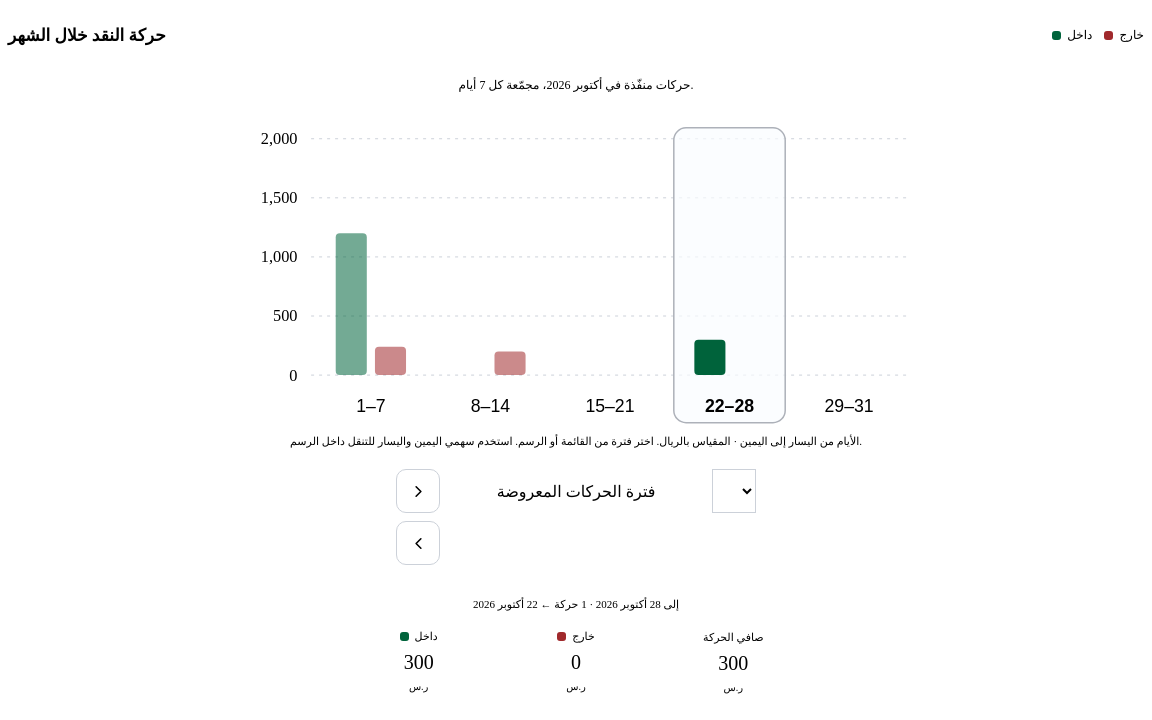
Test: interactive cash charts › updates exact period figures with native selection and keyboard bar navigation
The width and height of the screenshot is (1152, 720).
Select "من 1 إلى 7 أكتوبر 2026" in the dropdown labelled "فترة الحركات المعروضة" at coordinates (734, 491), box [712, 469, 756, 513]
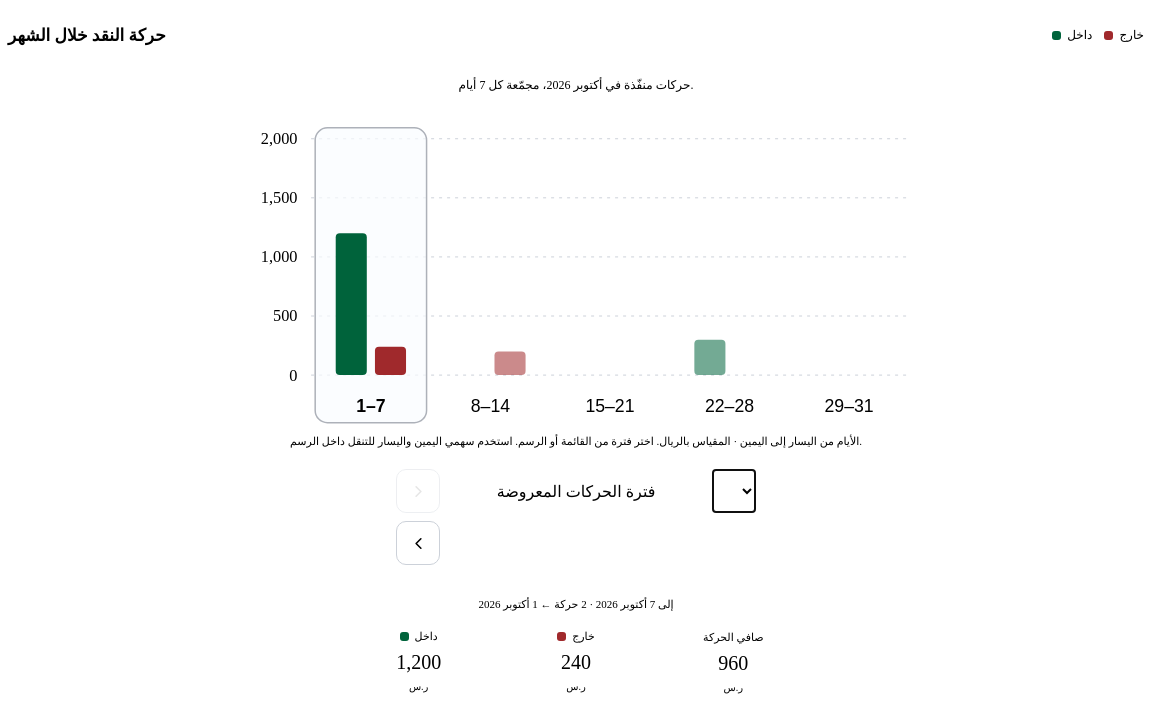
Expected: the text "1,200" is shown, [396, 648, 441, 677]
Expected: the text "240" is shown, [561, 648, 591, 677]
Expected: the text "960" is shown, [718, 649, 748, 678]
Press ArrowRight in the button "الفترة 1–7 من", box [356, 395, 386, 415]
(page scrolled)
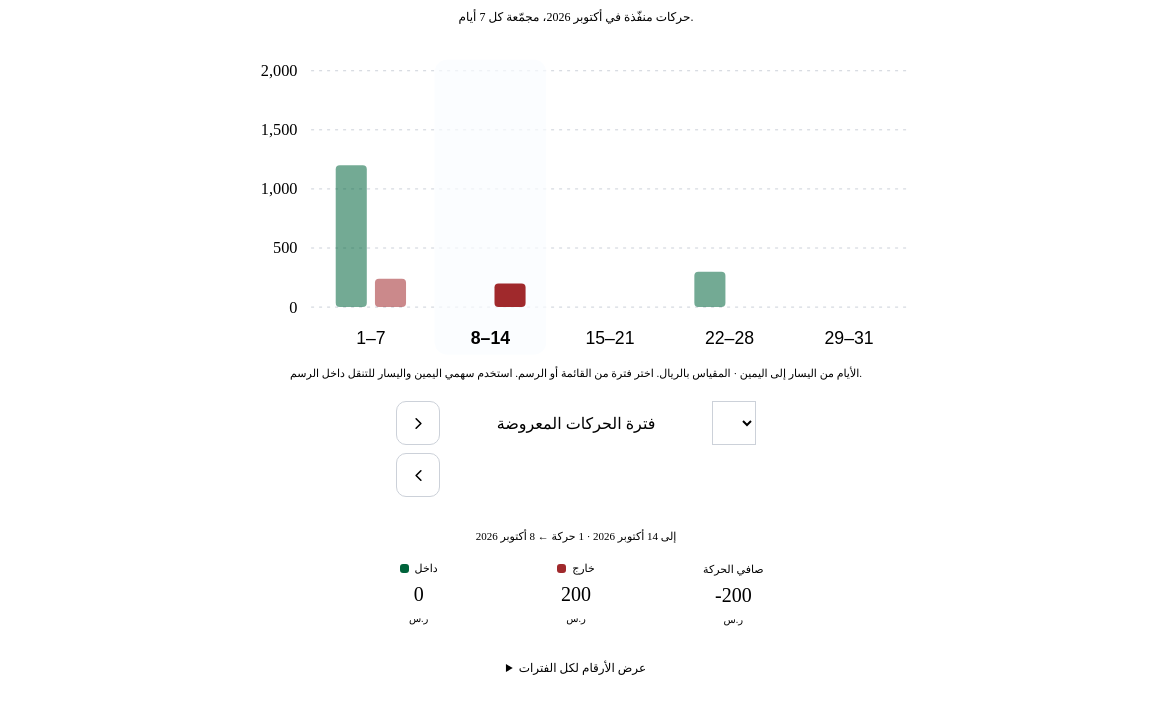
Expected: the text "200" is shown, [561, 580, 591, 609]
Expected: the text "-200" is shown, [715, 581, 752, 610]
Click the heading "عرض الأرقام لكل الفترات".
click(582, 668)  # box [519, 660, 646, 674]
(page scrolled)
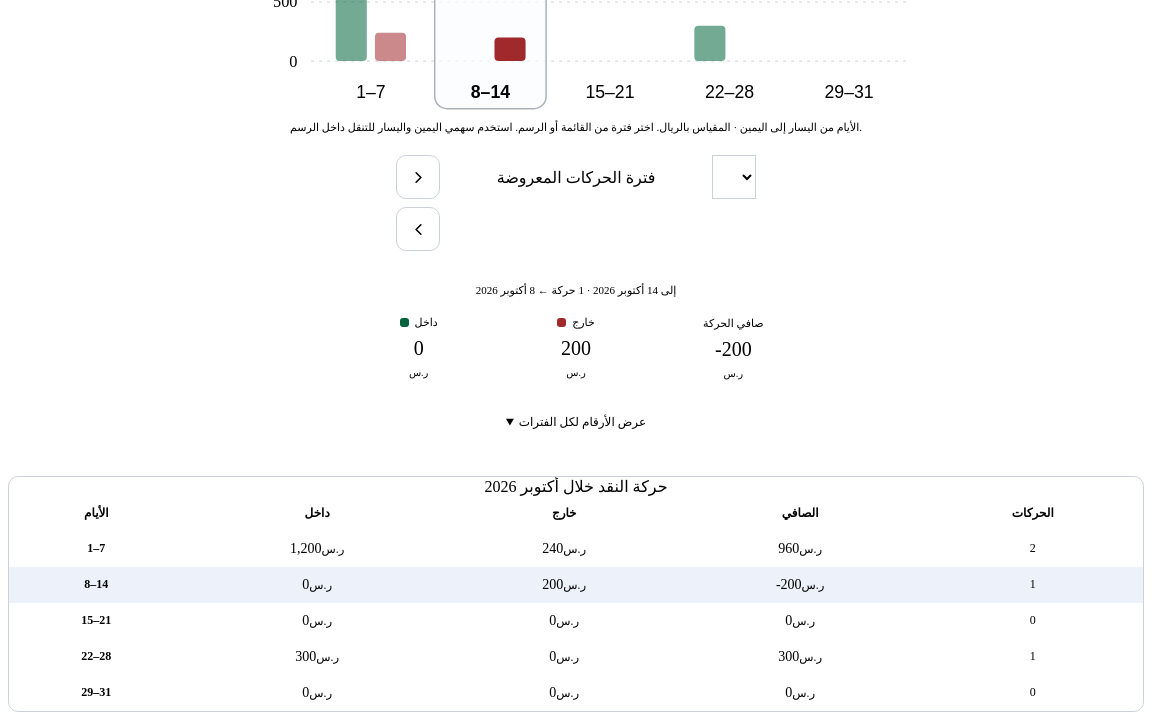
Expected: the table "حركة النقد خلال" is shown, [9, 476, 1143, 710]
